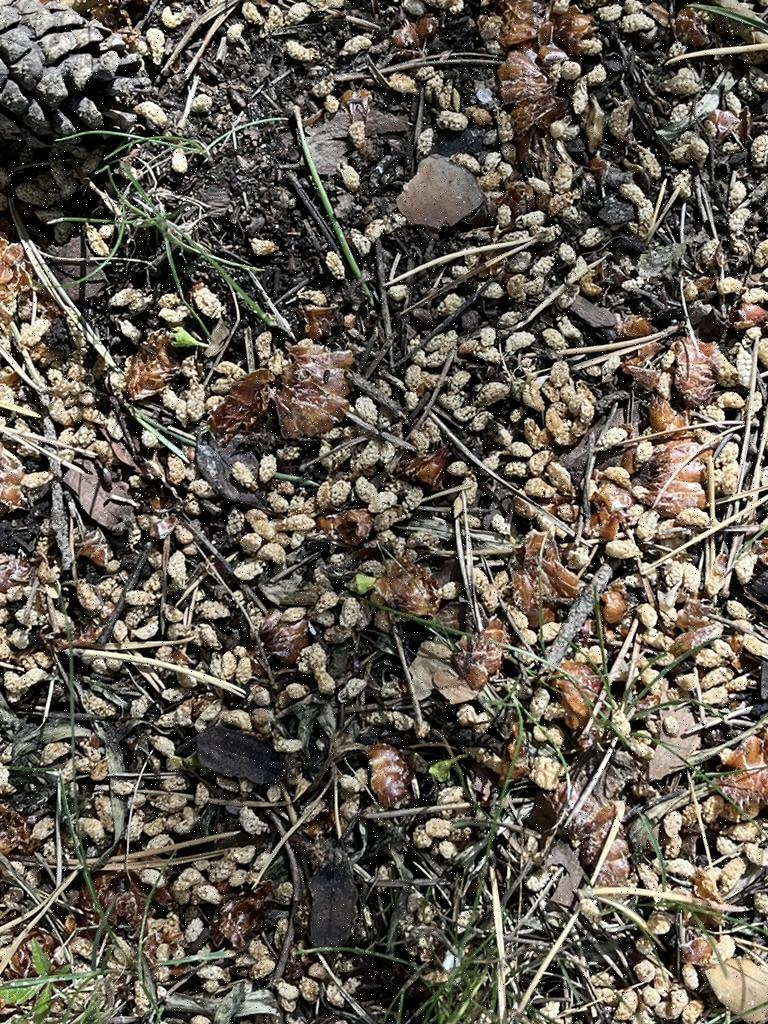pine: (0, 0, 178, 163)
